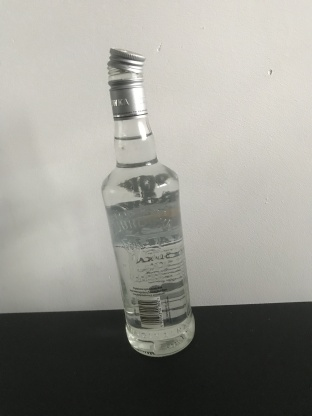nakretka: (104, 45, 149, 122)
